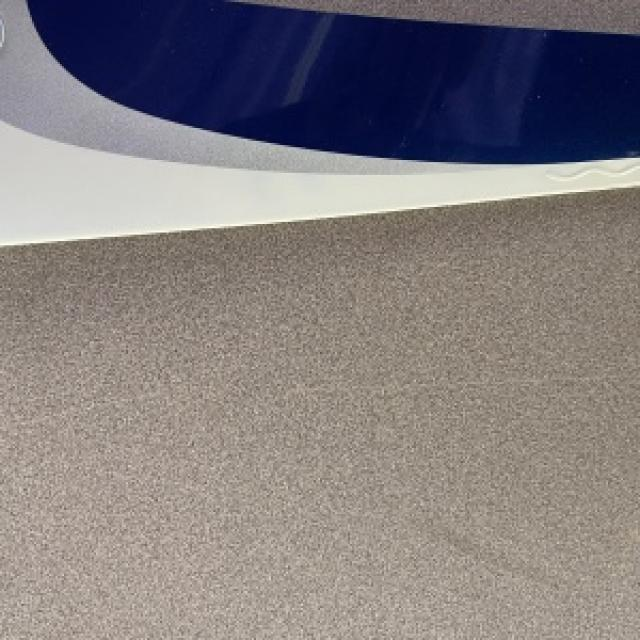healthy: (0, 186, 638, 638), (0, 0, 638, 241)
